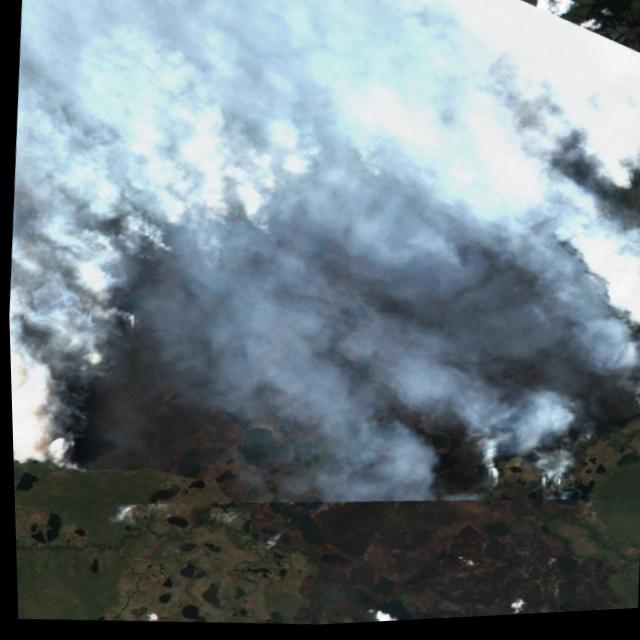fire: (3, 117, 341, 497), (530, 159, 640, 347), (461, 421, 604, 514)
